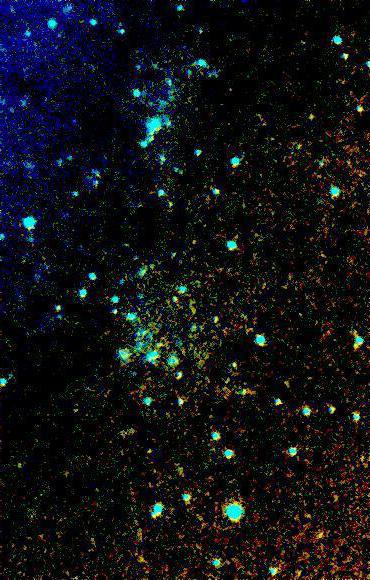star: (285, 550, 315, 580)
